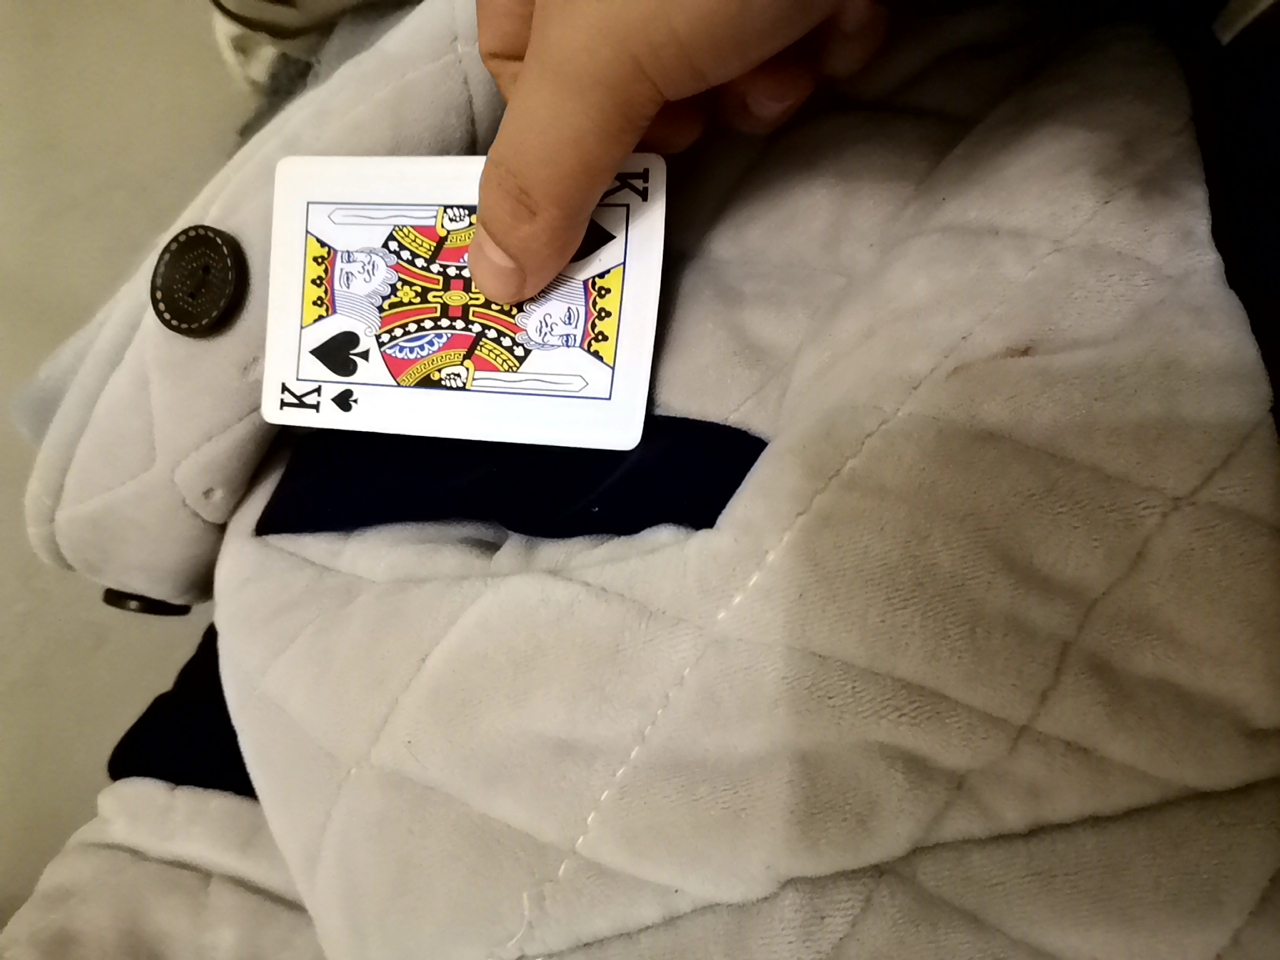ht k: (245, 166, 658, 441)
